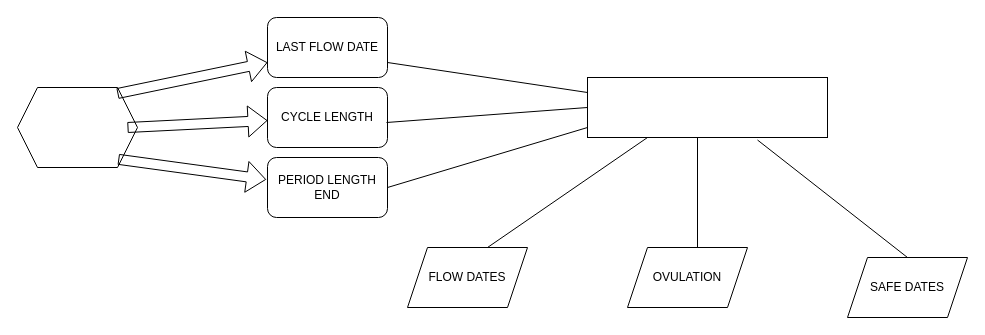
Some shapes in this 985 by 335 pixel diagram are drawn without their labels. The box of each missing label's shape, as (x1, y1, x2, y2) in pixels:
CALCULATION: (586, 76, 828, 138)
USER: (16, 86, 138, 168)
